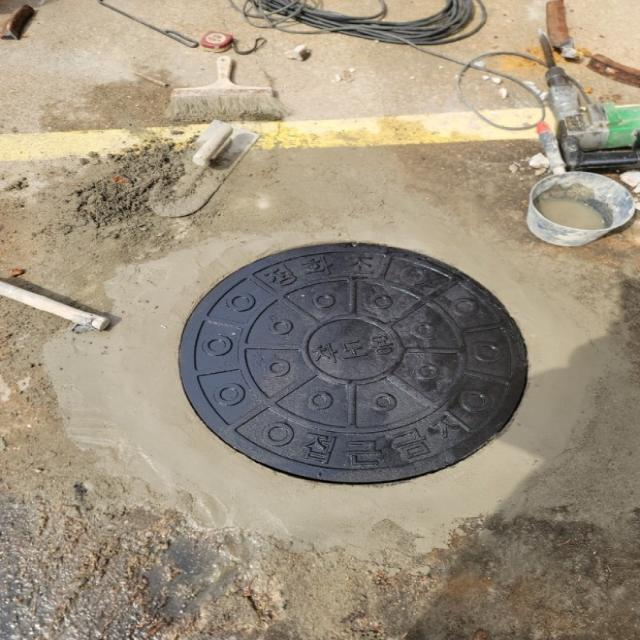manhole: (178, 243, 528, 488)
